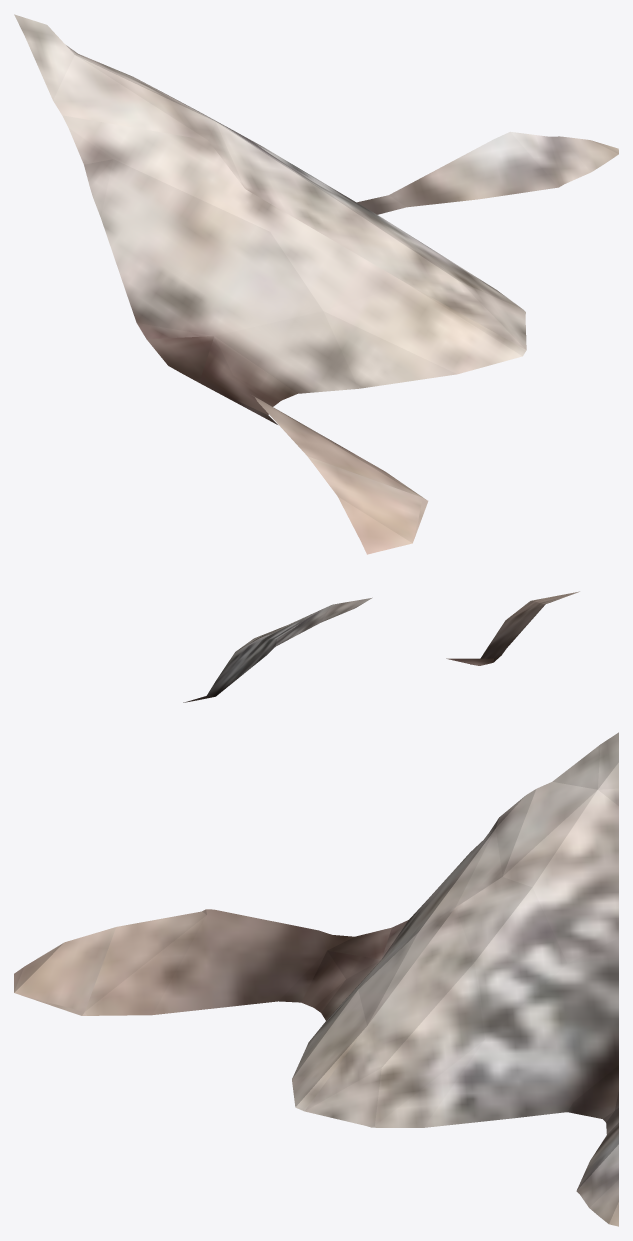
The picture shows the model from 3 angles, top to bottom: view 1: azimuth 30°, elevation 25°; view 2: azimuth 150°, elevation 25°; view 3: azimuth 270°, elevation 25°; orthographic projection. The views are drawn at different scales.
Size of the model in its own units: 0.3237 by 0.1442 by 0.3273.
1 material, 1 textured.
